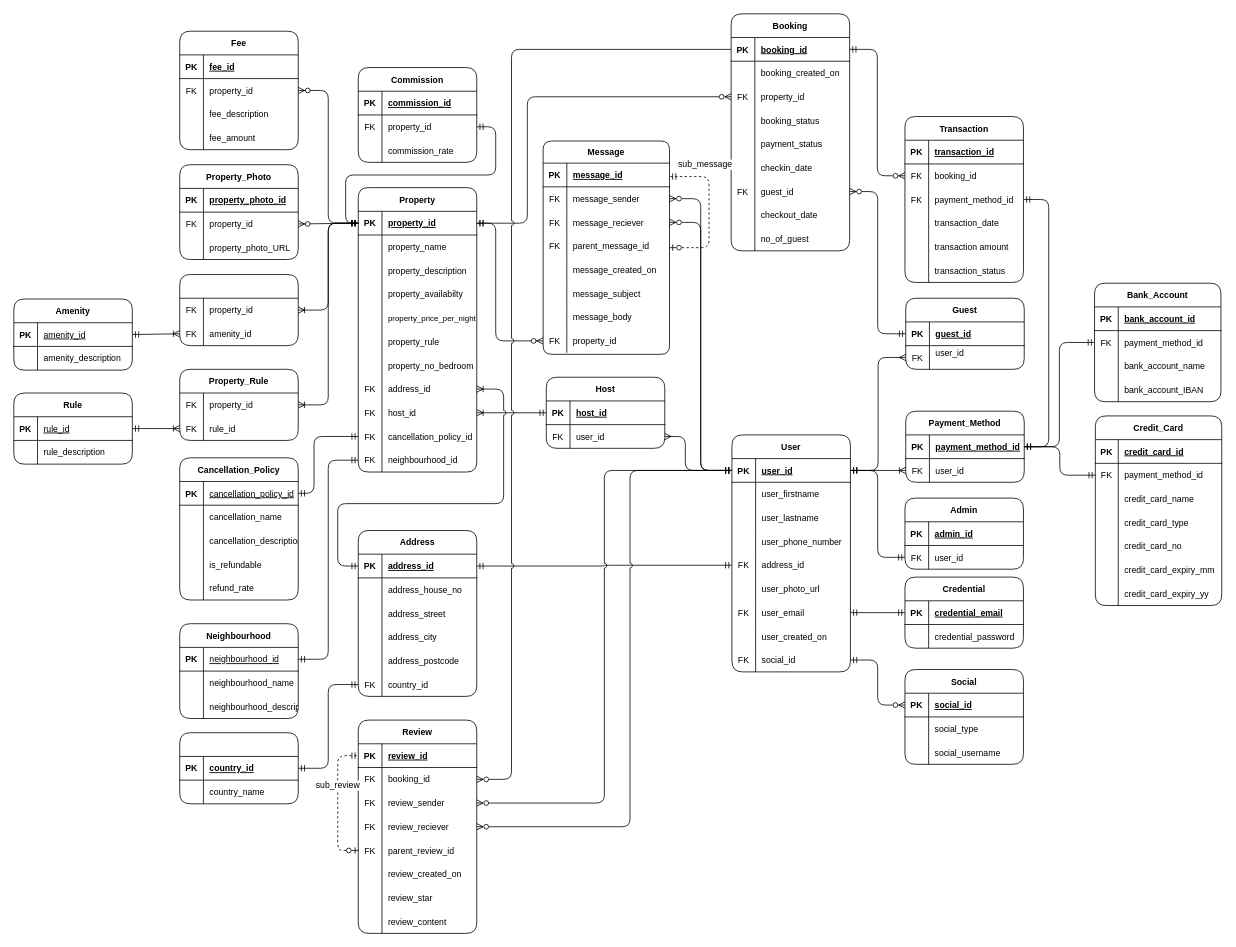
The diagram is 1236 pixels wide and 947 high, and some of its shapes have lost their labels. The shapes that lost their labels are listed below. From the top down, each one's box as (x1, y1, x2, y2) in pixels, then its label:
(179, 274, 298, 346): Property_Amenity
(179, 732, 298, 804): Counrty
